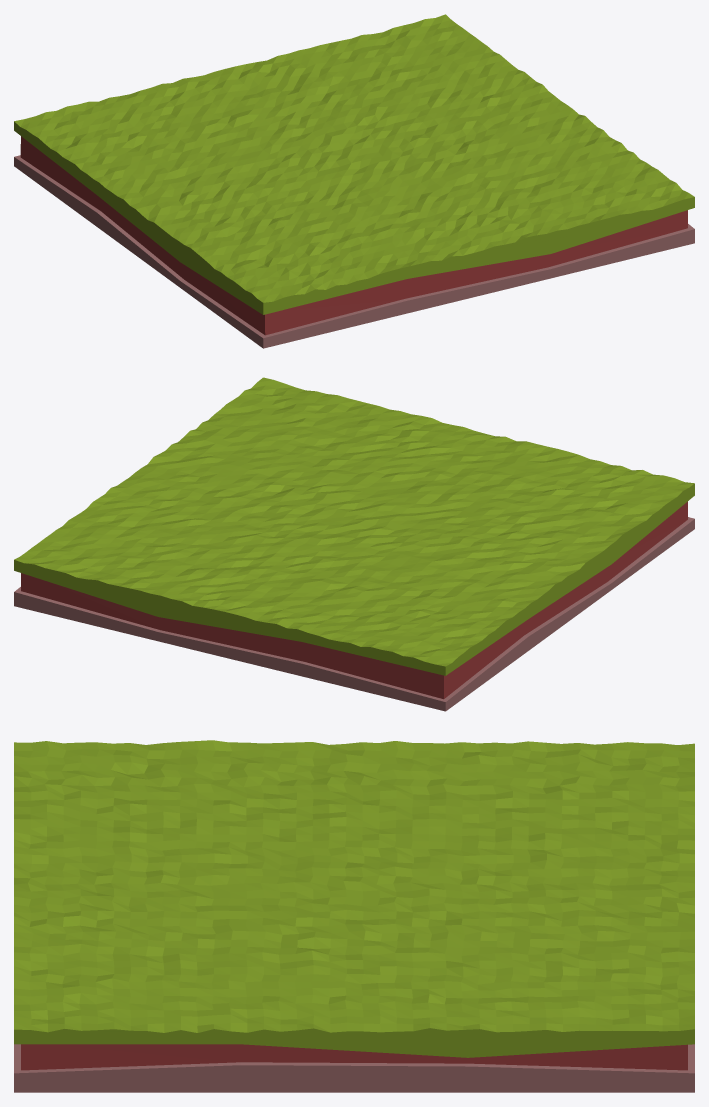
3 renders of one model, top to bottom at view 1: azimuth 30°, elevation 25°; view 2: azimuth 150°, elevation 25°; view 3: azimuth 270°, elevation 25°, orthographic. The views are drawn at different scales.
Visible parts, largest first — view 1: Base; view 2: Base; view 3: Base.
Part boxes in pixels (box(x1,y1,x2,y2)): Base: box(14, 14, 694, 348); Base: box(14, 377, 694, 711); Base: box(14, 740, 694, 1092).
Bounding box in the file's own units: 10001 × 1052 × 10001.
